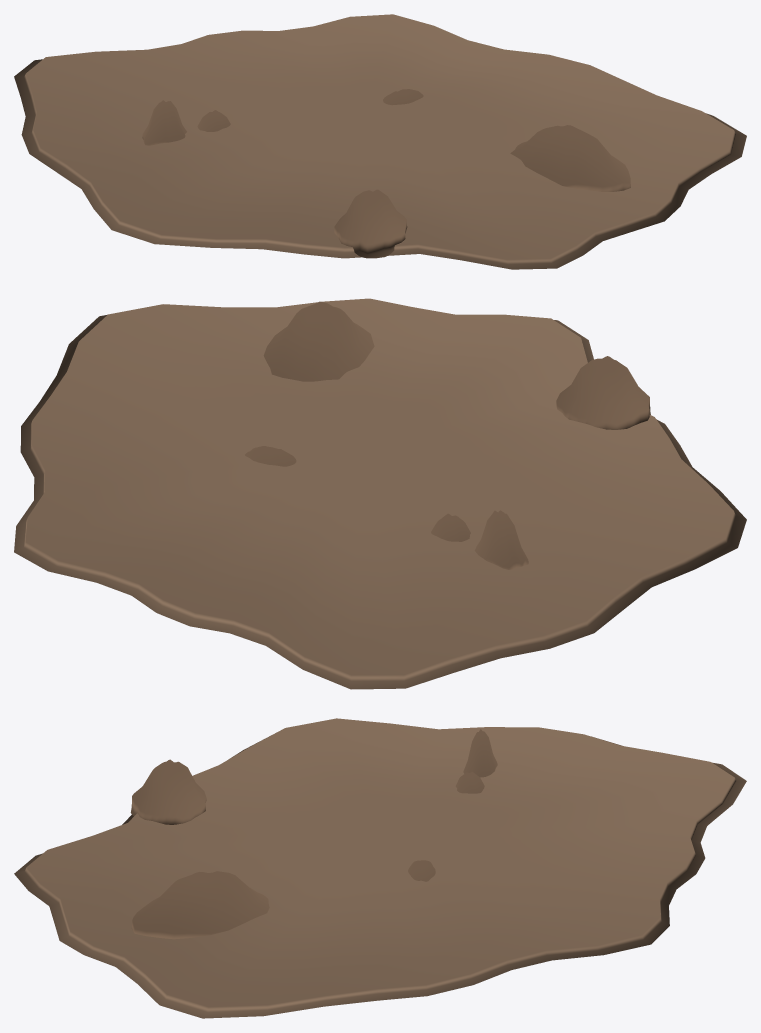
Rendered from dirt_10.glb.
3 renders of one model, top to bottom at view 1: azimuth 30°, elevation 25°; view 2: azimuth 150°, elevation 25°; view 3: azimuth 270°, elevation 25°, orthographic. The views are drawn at different scales.
Parts seen in each view (by area): view 1: dirt_10; view 2: dirt_10; view 3: dirt_10.
Boxes of the visible parts, x1,y1,x2,y2 form: dirt_10: (14,14,746,269); dirt_10: (14,298,746,689); dirt_10: (14,718,746,1018).
Size of the model in its own units: 0.91 by 0.0748 by 0.9462.
